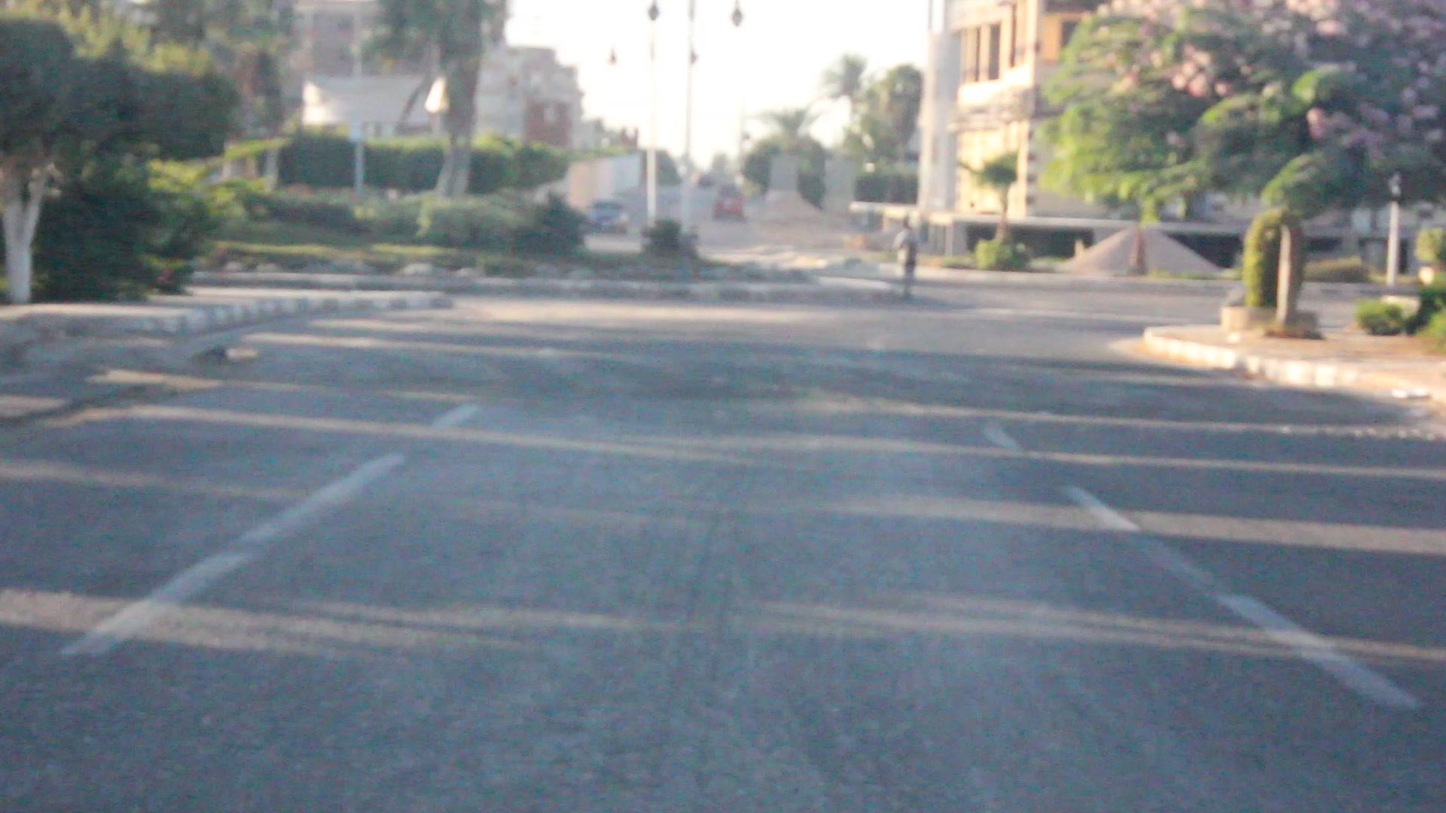Bump: (250, 331, 1369, 418)
